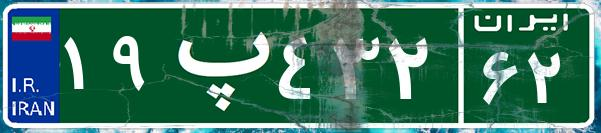1: (57, 26, 110, 107)
2: (385, 28, 445, 110), (525, 38, 570, 115)
3: (330, 28, 385, 110)
4: (273, 28, 330, 110)
6: (475, 38, 525, 113)
9: (110, 28, 158, 105)
پ: (158, 15, 273, 115)
